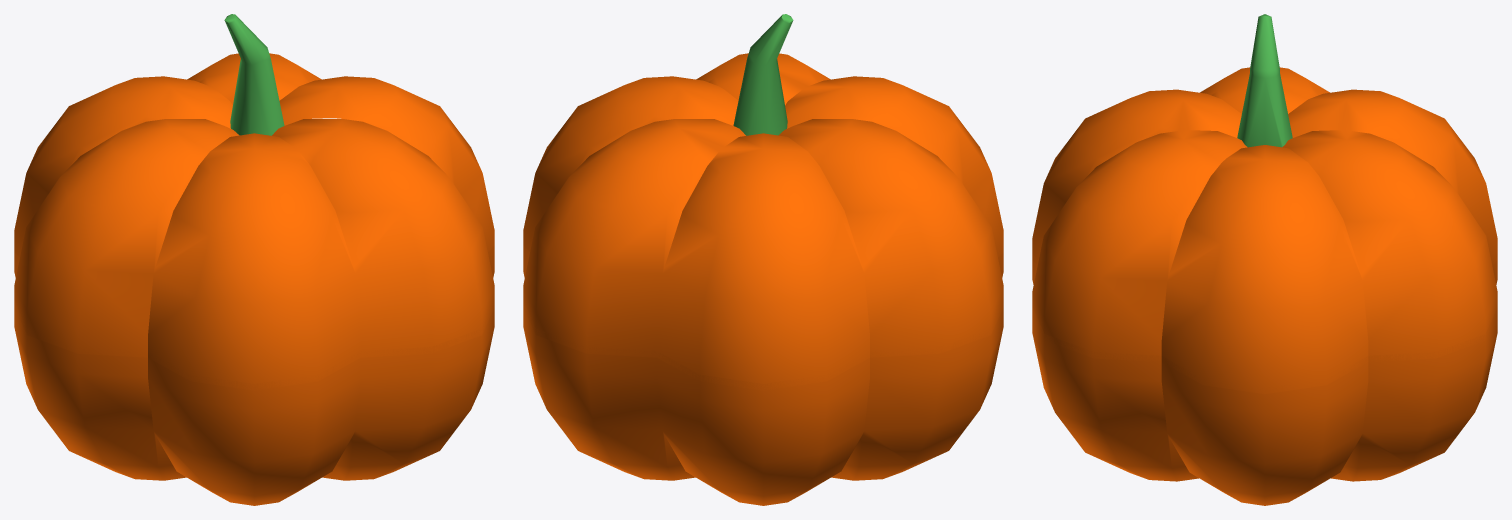
File: pumpkin1.glb
3 views of the same model, side by side, from view 1: azimuth 30°, elevation 25°; view 2: azimuth 150°, elevation 25°; view 3: azimuth 270°, elevation 25° (orthographic). The views are drawn at different scales.
Bounding box in the file's own units: 1.23 × 1.13 × 1.12.
